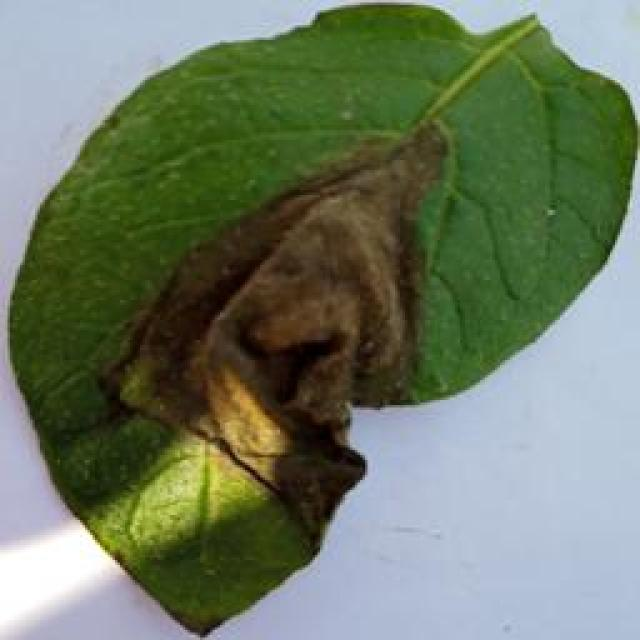Potato_Late_Blight: (10, 7, 625, 640)
